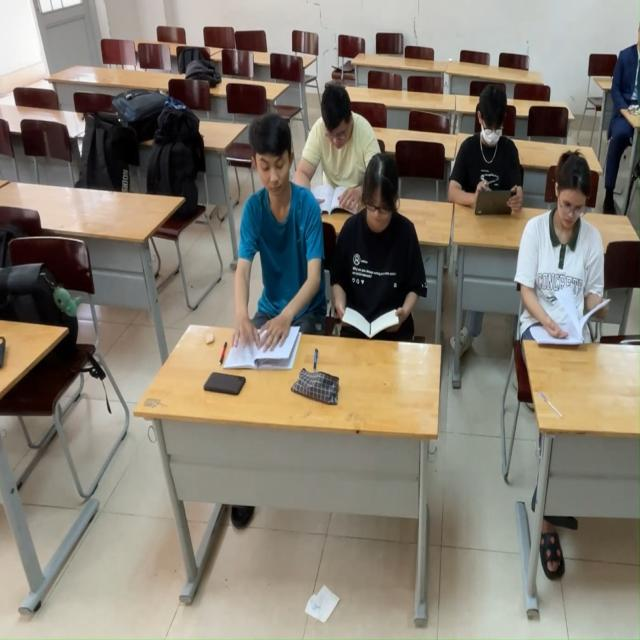read: (519, 158, 617, 378), (241, 119, 312, 373), (340, 158, 418, 360), (449, 86, 523, 236), (304, 82, 368, 223)
